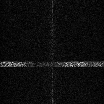wifi: (1, 61, 104, 66)
